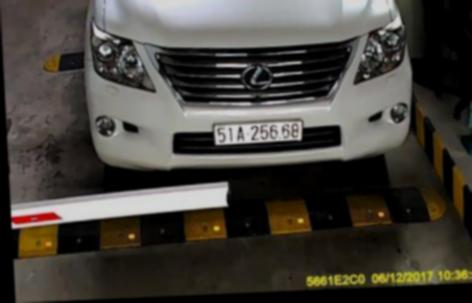License_Plate: (213, 115, 313, 149)
